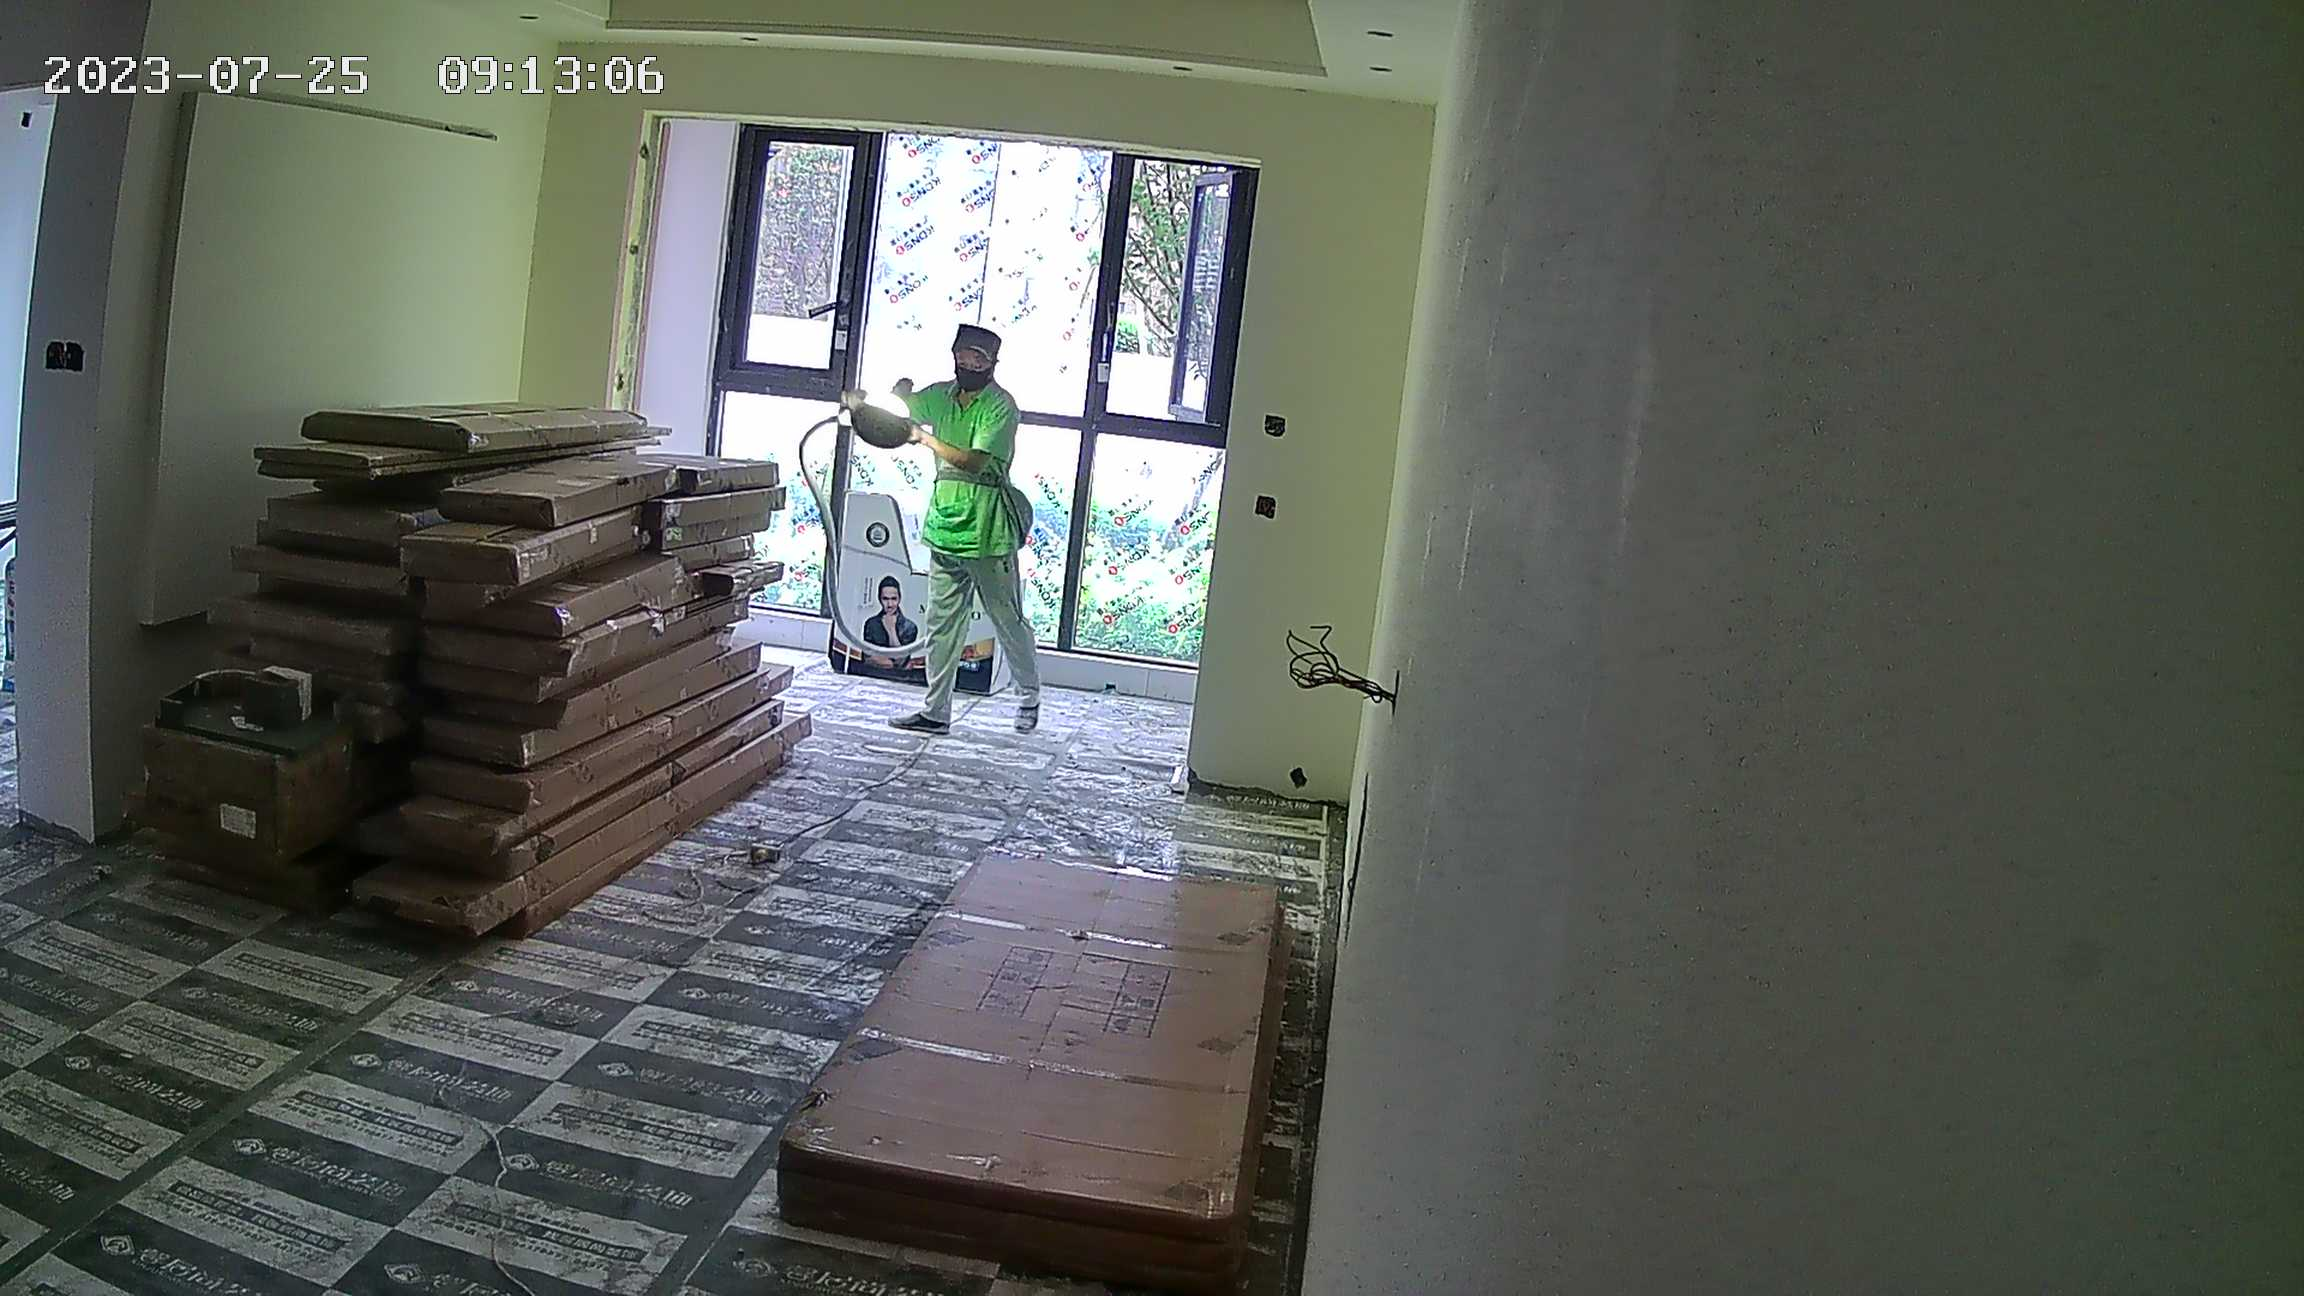people: (903, 326, 1049, 735)
window: (717, 125, 1224, 674)
